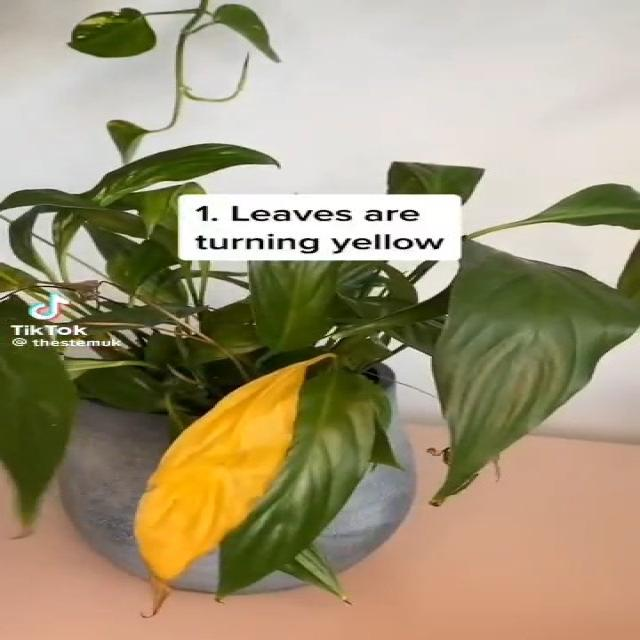lisc_przelany: (132, 362, 311, 615)
roslina_przelana: (0, 144, 640, 616)
